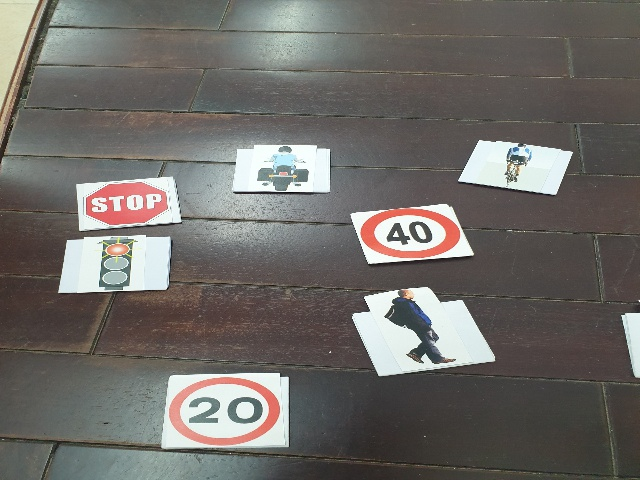Cyclist: (498, 142, 535, 189)
Limit 20: (171, 379, 282, 442)
Limit 40: (361, 211, 460, 256)
Motorcycle: (256, 144, 312, 190)
Person: (383, 291, 454, 367)
Red Light: (92, 237, 139, 290)
Stop: (84, 183, 172, 224)
